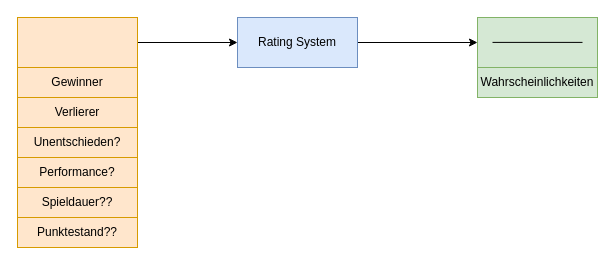
Image size: 615x265. Some labels were removed from this diagram. The box of each missing label's shape, as (x1, y1, x2, y2) in pixels:
Informationen: (16, 16, 138, 68)
Vorhersagen: (476, 16, 598, 68)
